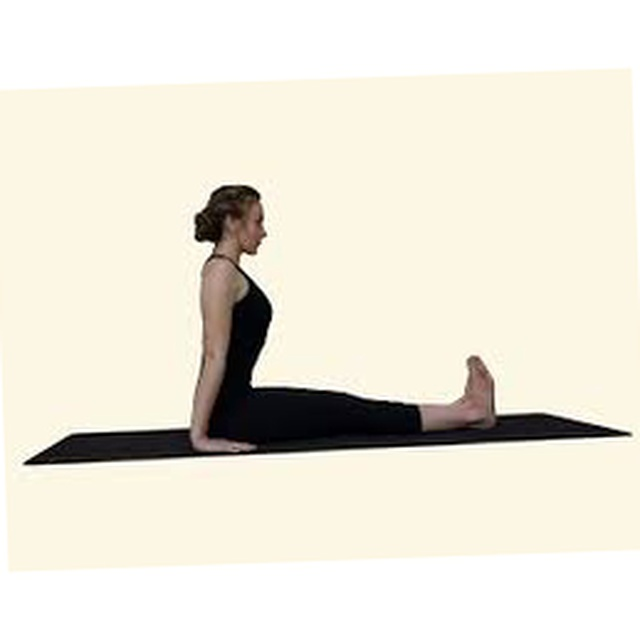Staff_Pose: (191, 184, 497, 453)
